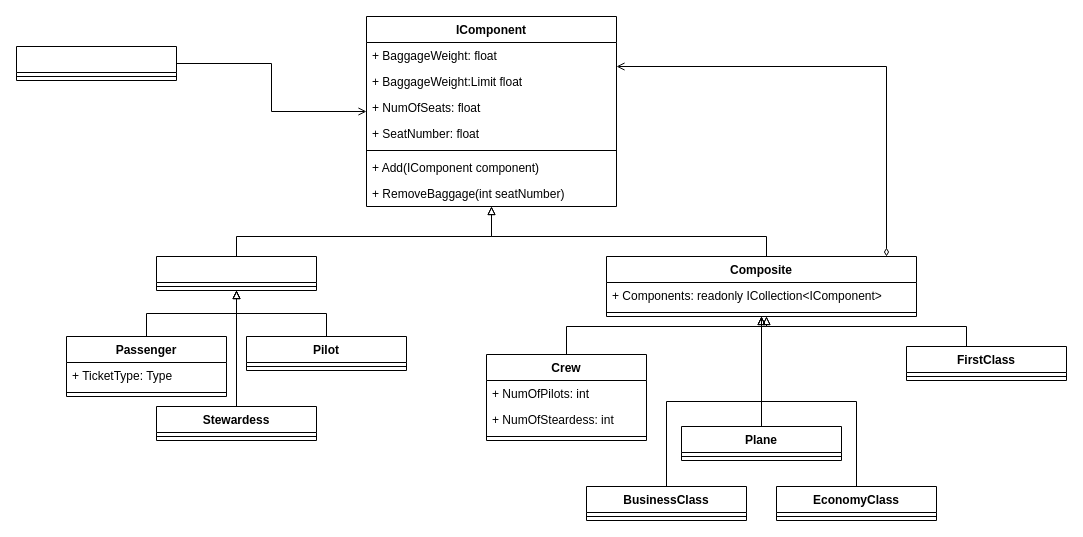
This 1083x537 diagram has some shape labels left out. The shapes that lost their labels are listed below. From the top down, each one's centre as x and y in pixels, then its label:
At (x=96, y=63): "Client".
At (x=236, y=273): "Primitive".
